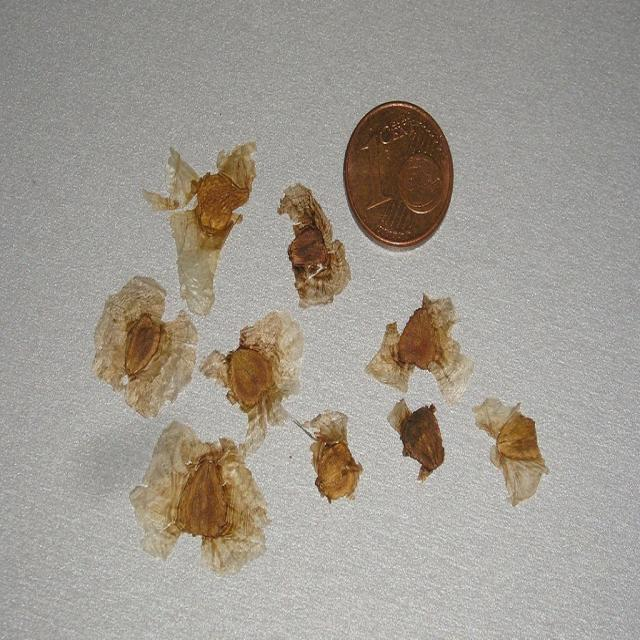Coin: (341, 97, 452, 251)
